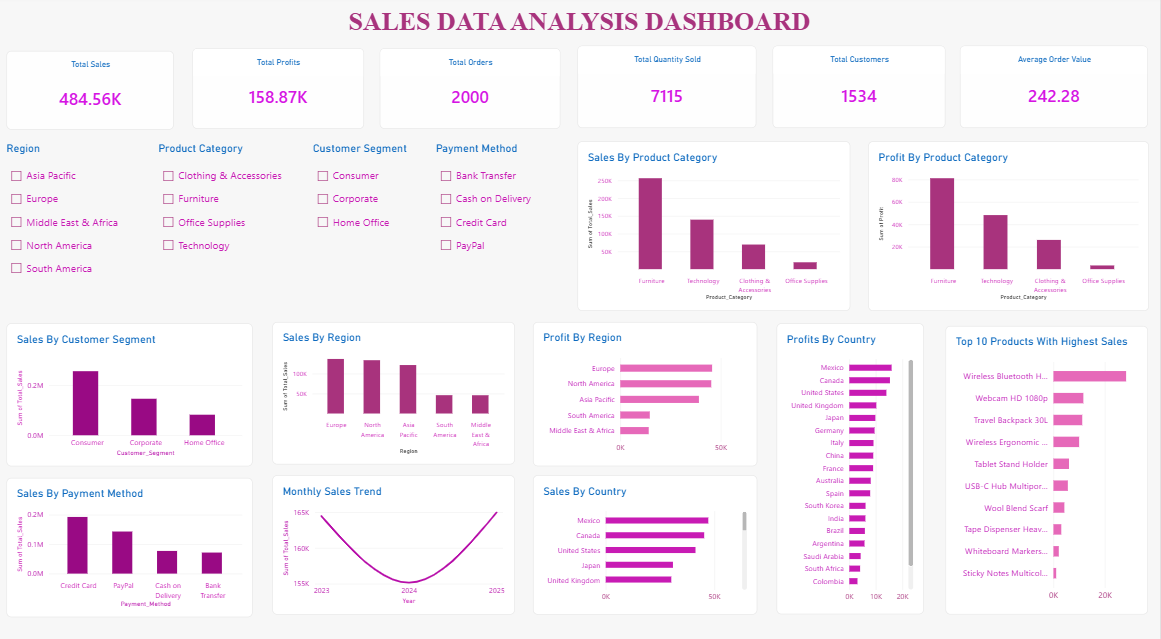

The page's visual inventory and layout, read from the dashboard file:
{"tool":"powerbi","page":{"name":"Page 1","canvas":[1920,1080],"ordinal":0},"visuals":[{"type":"card","title":"Total Sales","fields":{"Values":["Sum(Week2_Sales_Data_Cleaned.Total_Sales)"]},"box":[38,162,308,132],"z":0},{"type":"card","title":"Total Orders","fields":{"Values":["Count(Week2_Sales_Data_Cleaned.Order_ID)"]},"box":[674,162,298,132],"z":1000},{"type":"card","title":"Total Profits","fields":{"Values":["Sum(Week2_Sales_Data_Cleaned.Profit)"]},"box":[360,162,296,132],"z":2000},{"type":"card","title":"Total Quantity Sold","fields":{"Values":["Sum(Week2_Sales_Data_Cleaned.Quantity)"]},"box":[990,162,296,132],"z":3000},{"type":"card","title":"Total Customers","fields":{"Values":["Count(Week2_Sales_Data_Cleaned.Customer_Name)"]},"box":[1304,162,290,132],"z":4000},{"type":"card","title":"Average Order Value","fields":{"Values":["Week2_Sales_Data_Cleaned.Average Order Value"]},"box":[1610,161.7,270,131.7],"z":5000},{"type":"clusteredColumnChart","title":"Profit By Product Category","fields":{"Category":["Week2_Sales_Data_Cleaned.Product_Category"],"Y":["Sum(Week2_Sales_Data_Cleaned.Profit)"]},"box":[1436.7,293.3,443.3,315],"z":6000},{"type":"clusteredColumnChart","title":"Sales By Product Category","fields":{"Category":["Week2_Sales_Data_Cleaned.Product_Category"],"Y":["Sum(Week2_Sales_Data_Cleaned.Total_Sales)"]},"box":[928.3,293.3,508.3,315],"z":7000},{"type":"clusteredColumnChart","title":"Sales By Region","fields":{"Category":["Week2_Sales_Data_Cleaned.Region"],"Y":["Sum(Week2_Sales_Data_Cleaned.Total_Sales)"]},"box":[451.7,541.7,476.7,271.7],"z":8000},{"type":"clusteredBarChart","title":"Profit By Region","fields":{"Category":["Week2_Sales_Data_Cleaned.Region"],"Y":["Sum(Week2_Sales_Data_Cleaned.Profit)"]},"box":[928,614,358,200],"z":9000},{"type":"clusteredBarChart","title":"Top 10 Products With Highest Sales","fields":{"Category":["Week2_Sales_Data_Cleaned.Product_Name"],"Y":["Sum(Week2_Sales_Data_Cleaned.Total_Sales)"]},"box":[1593.3,613.3,286.7,433.3],"z":10000},{"type":"lineChart","fields":{"Category":["Week2_Sales_Data_Cleaned.Order_Date.Variation.Date Hierarchy.Year","Week2_Sales_Data_Cleaned.Order_Date.Variation.Date Hierarchy.Quarter","Week2_Sales_Data_Cleaned.Order_Date.Variation.Date Hierarchy.Month","Week2_Sales_Data_Cleaned.Order_Date.Variation.Date Hierarchy.Day"],"Y":["Sum(Week2_Sales_Data_Cleaned.Total_Sales)"]},"box":[498.3,813.3,378.3,233.3],"z":11000},{"type":"clusteredColumnChart","title":"Sales By Customer Segment","fields":{"Category":["Week2_Sales_Data_Cleaned.Customer_Segment"],"Y":["Sum(Week2_Sales_Data_Cleaned.Total_Sales)"]},"box":[38.3,541.7,413.3,271.7],"z":12000},{"type":"clusteredColumnChart","title":"Sales By Payment Method","fields":{"Category":["Week2_Sales_Data_Cleaned.Payment_Method"],"Y":["Sum(Week2_Sales_Data_Cleaned.Total_Sales)"]},"box":[38.3,815,460,231.7],"z":13000},{"type":"clusteredBarChart","title":"Sales By Country","fields":{"Category":["Week2_Sales_Data_Cleaned.Country"],"Y":["Sum(Week2_Sales_Data_Cleaned.Total_Sales)"]},"box":[876.7,815,410,231.7],"z":14000},{"type":"clusteredBarChart","title":"Profits By Country","fields":{"Category":["Week2_Sales_Data_Cleaned.Country"],"Y":["Sum(Week2_Sales_Data_Cleaned.Profit)"]},"box":[1286.7,613.3,306.7,433.3],"z":14001},{"type":"slicer","title":"Product Category","fields":{"Values":["Week2_Sales_Data_Cleaned.Product_Category"]},"box":[300,303.3,333.3,238.3],"z":14002},{"type":"slicer","title":"Customer Segment","fields":{"Values":["Week2_Sales_Data_Cleaned.Customer_Segment"]},"box":[546.7,303.3,355,238.3],"z":14003},{"type":"slicer","title":"Region","fields":{"Values":["Week2_Sales_Data_Cleaned.Region"]},"box":[38.3,301.7,262,238],"z":14004},{"type":"slicer","title":"Payment Method","fields":{"Values":["Week2_Sales_Data_Cleaned.Payment_Method"]},"box":[748.3,303.3,181.7,238.3],"z":14005},{"type":"textbox","box":[0,70,1860,165],"z":14006}]}

Visuals, with their boxes in screenshot pixels (x1, y1, x2, y2), scaled from the page's 1920x1080 canvas onto the 1161x639 screenshot:
"Total Sales" card: [23, 96, 209, 174]
"Total Orders" card: [408, 96, 588, 174]
"Total Profits" card: [218, 96, 397, 174]
"Total Quantity Sold" card: [599, 96, 778, 174]
"Total Customers" card: [789, 96, 964, 174]
"Average Order Value" card: [974, 96, 1137, 174]
"Profit By Product Category" clusteredColumnChart: [869, 174, 1137, 360]
"Sales By Product Category" clusteredColumnChart: [561, 174, 869, 360]
"Sales By Region" clusteredColumnChart: [273, 321, 561, 481]
"Profit By Region" clusteredBarChart: [561, 363, 778, 482]
"Top 10 Products With Highest Sales" clusteredBarChart: [963, 363, 1137, 619]
lineChart - Week2_Sales_Data_Cleaned.Order_Date.Variation.Date Hierarchy.Year x Week2_Sales_Data_Cleaned.Order_Date.Variation.Date Hierarchy.Quarter: [301, 481, 530, 619]
"Sales By Customer Segment" clusteredColumnChart: [23, 321, 273, 481]
"Sales By Payment Method" clusteredColumnChart: [23, 482, 301, 619]
"Sales By Country" clusteredBarChart: [530, 482, 778, 619]
"Profits By Country" clusteredBarChart: [778, 363, 964, 619]
"Product Category" slicer: [181, 179, 383, 320]
"Customer Segment" slicer: [331, 179, 545, 320]
"Region" slicer: [23, 179, 182, 319]
"Payment Method" slicer: [452, 179, 562, 320]
textbox: [0, 41, 1125, 139]
